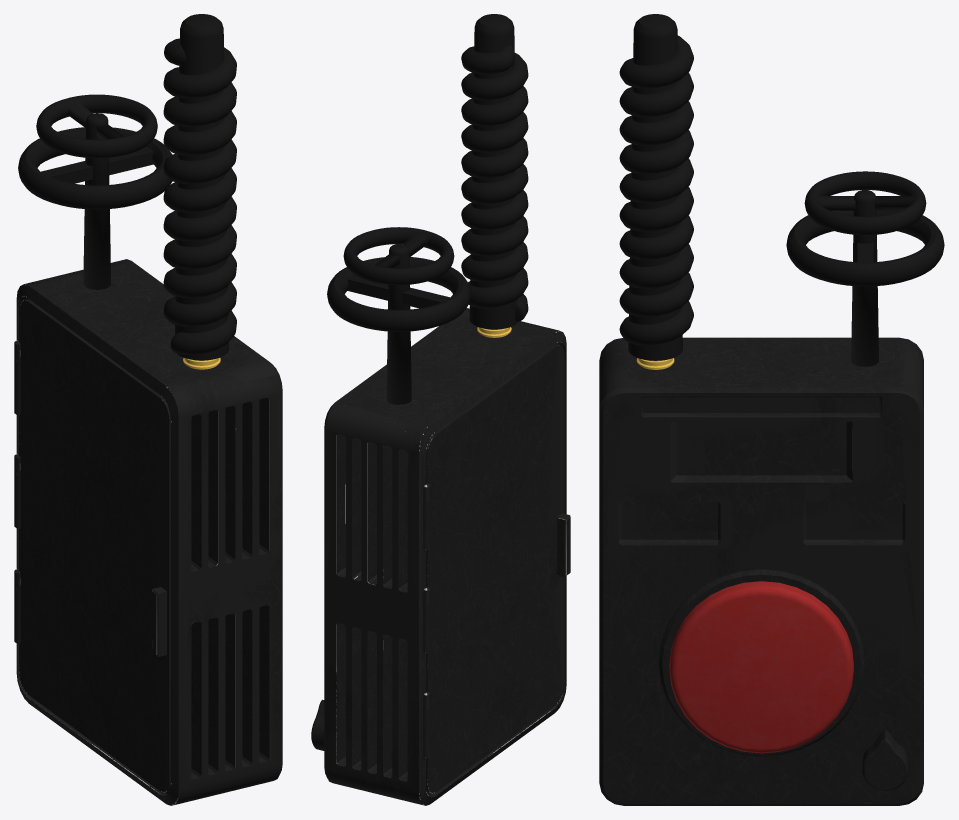
Rendered from rewinder_1.fbx.
The picture shows the model from 3 angles, left to right: view 1: azimuth 30°, elevation 25°; view 2: azimuth 150°, elevation 25°; view 3: azimuth 270°, elevation 25°; orthographic projection. The views are drawn at different scales.
Parts seen in each view (by area): view 1: Cylinder.001, Torus.003, Torus.005, Torus.002, Torus, Torus.004; view 2: Cylinder.001, Torus.003, Torus.005, Torus.002, Torus, Torus.004, Cylinder.006; view 3: Cylinder.001, Cylinder.003, Torus.003, Torus.005, Torus.002, Cylinder.004, Torus, Torus.004, Cylinder.006.
Boxes of the visible parts, x1,y1,x2,y2 form: Cylinder.001: [14, 259, 282, 805]; Torus.003: [163, 38, 236, 355]; Torus.005: [18, 127, 172, 209]; Torus.002: [175, 14, 229, 360]; Torus: [36, 94, 157, 158]; Torus.004: [83, 113, 111, 289]; Cylinder.001: [324, 308, 570, 805]; Torus.003: [461, 45, 528, 321]; Torus.005: [327, 257, 470, 331]; Torus.002: [469, 14, 518, 329]; Torus: [343, 227, 454, 285]; Torus.004: [386, 243, 411, 404]; Cylinder.006: [311, 699, 324, 750]; Cylinder.001: [599, 337, 923, 805]; Cylinder.003: [669, 581, 853, 753]; Torus.003: [619, 35, 693, 345]; Torus.005: [786, 210, 944, 286]; Torus.002: [628, 14, 682, 360]; Cylinder.004: [658, 569, 864, 756]; Torus: [804, 171, 926, 235]; Torus.004: [851, 190, 878, 366]; Cylinder.006: [862, 729, 908, 790].
Size of the model in its own units: 72.25 by 364 by 150.
